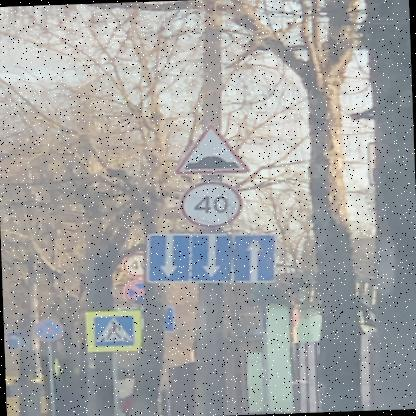crosswalk: (90, 312, 132, 346)
speedlimit: (177, 180, 242, 227), (121, 251, 144, 275)
